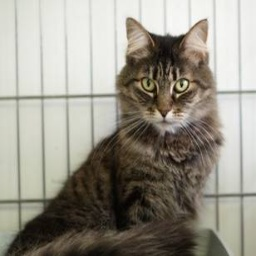cat: (4, 15, 221, 256)
